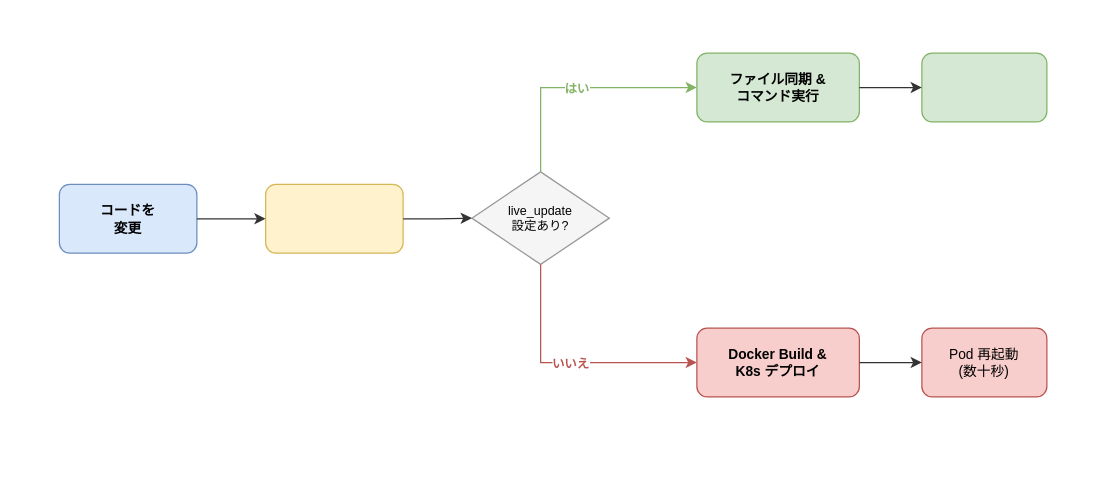
Some shapes in this 1093 by 480 pixel diagram are drawn without their labels. The centre of each missing label's shape, as x and y in pixels:
Tilt が 変更を検知: the point at 333,218
即座に反映 (数秒): the point at 984,87
